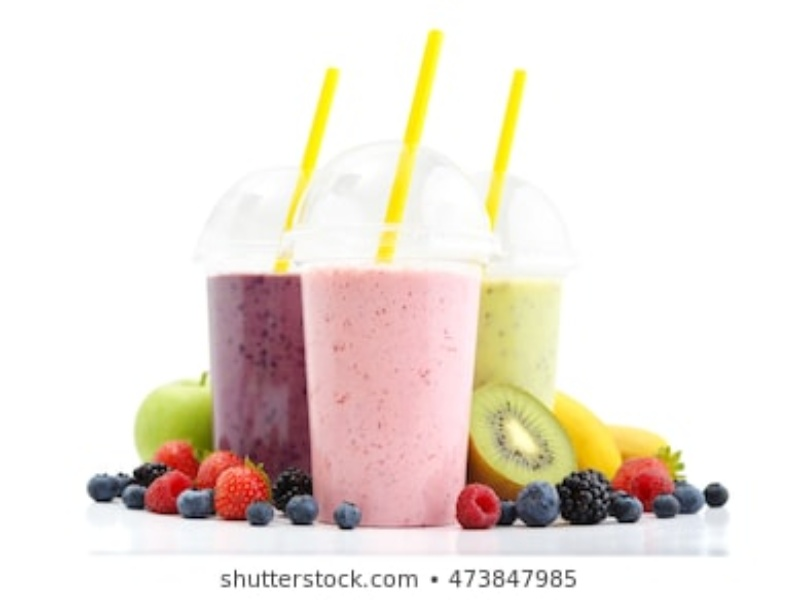plastic-cup: (310, 144, 481, 528), (194, 167, 331, 476), (474, 173, 573, 408)
straw: (375, 26, 448, 266), (276, 68, 342, 269), (475, 67, 527, 265)
